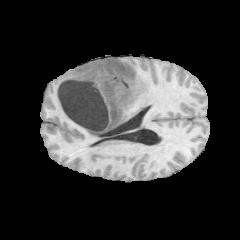glioma: (56, 57, 148, 137)
